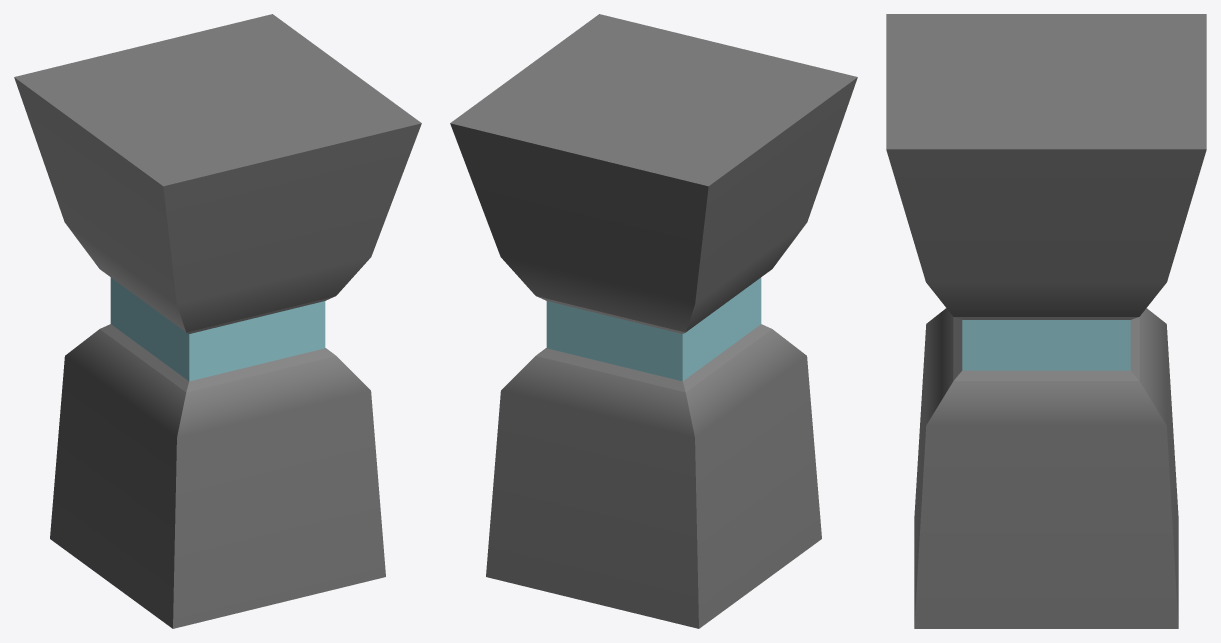
The model's file is MediumPiller.fbx.
3 views of the same model, side by side, from view 1: azimuth 30°, elevation 25°; view 2: azimuth 150°, elevation 25°; view 3: azimuth 270°, elevation 25° (orthographic). The views are drawn at different scales.
Parts seen in each view (by area): view 1: mediam_piller; view 2: mediam_piller; view 3: mediam_piller.
Part boxes in pixels (x1,y1,x2,y2): mediam_piller: (14, 14, 421, 628); mediam_piller: (450, 14, 857, 628); mediam_piller: (886, 14, 1206, 628).
Size of the model in its own units: 16.09 by 27.22 by 16.09.
